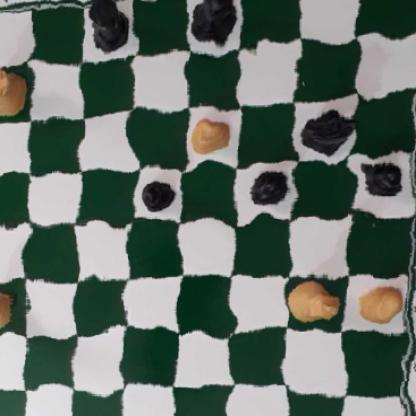black-king: (192, 0, 235, 49)
black-knight: (298, 108, 361, 157)
black-pawn: (354, 153, 407, 202), (248, 163, 288, 213), (143, 180, 176, 216)
black-rook: (87, 0, 133, 56)
white-bishop: (0, 285, 20, 336)
white-king: (287, 278, 345, 325)
white-pawn: (352, 277, 405, 323), (192, 110, 229, 161)
white-rook: (0, 60, 27, 120)
